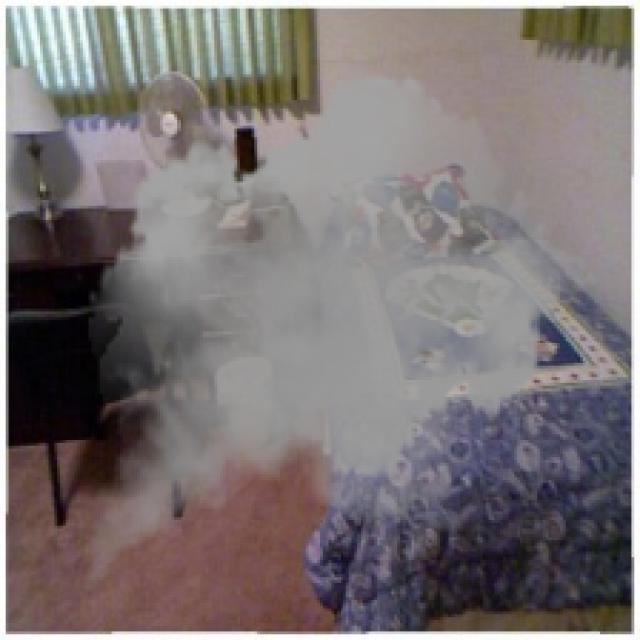smoke: (69, 57, 600, 623)
